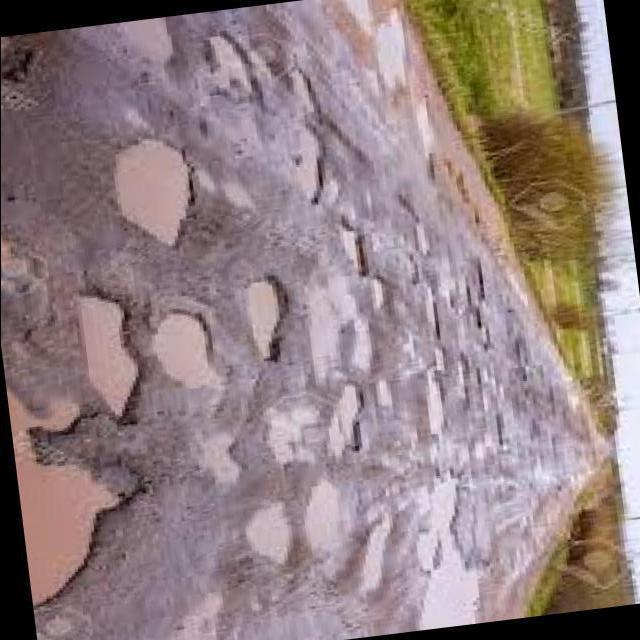pothole: (9, 391, 119, 603), (416, 479, 478, 628), (115, 140, 190, 244), (79, 296, 138, 416), (154, 314, 216, 388), (209, 36, 261, 99), (306, 286, 339, 384), (265, 405, 318, 464), (304, 479, 340, 557), (246, 502, 291, 564), (246, 281, 280, 358), (359, 512, 391, 593), (115, 19, 172, 62), (289, 124, 322, 198), (329, 385, 358, 456), (426, 370, 444, 434), (341, 230, 359, 269), (458, 358, 470, 408), (425, 286, 435, 327), (372, 279, 384, 309), (231, 134, 250, 149), (497, 414, 504, 446), (479, 261, 485, 298), (515, 338, 522, 367), (476, 308, 481, 328), (520, 374, 526, 381)
